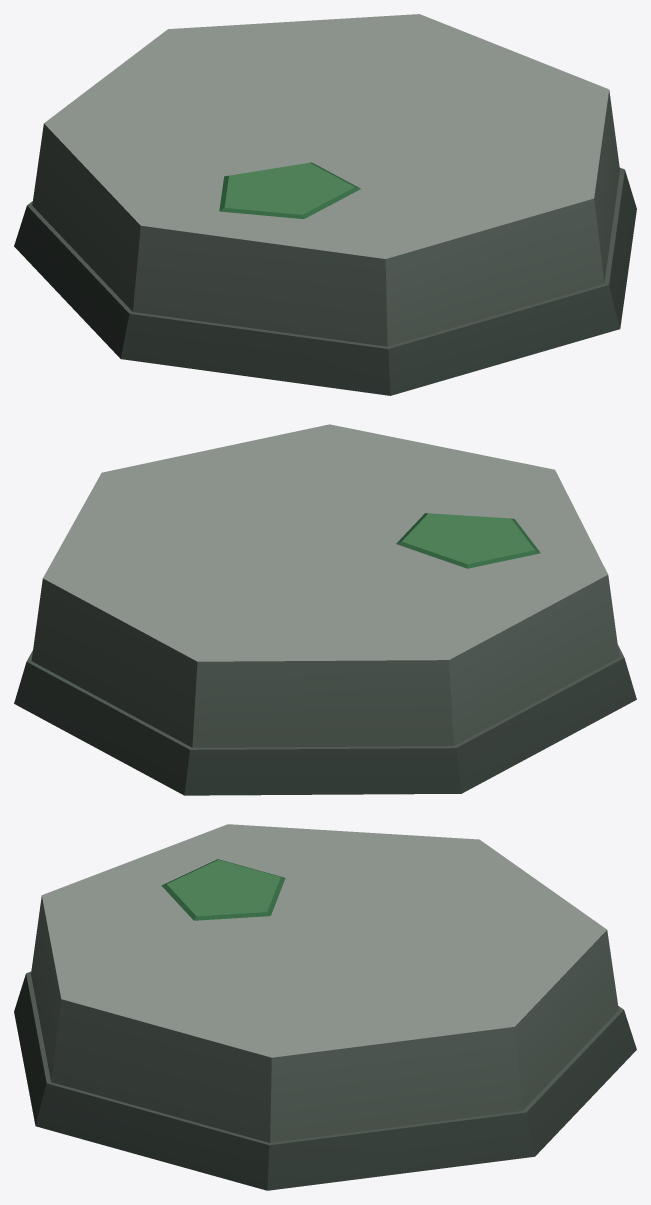
Rendered from custom-pedra-rio-3.glb.
3 views of the same model, one above another, from view 1: azimuth 30°, elevation 25°; view 2: azimuth 150°, elevation 25°; view 3: azimuth 270°, elevation 25° (orthographic). The views are drawn at different scales.
Visible parts, largest first — view 1: pedra-rio-3; view 2: pedra-rio-3; view 3: pedra-rio-3.
Boxes of the visible parts, x1,y1,x2,y2 form: pedra-rio-3: (14, 14, 636, 395); pedra-rio-3: (14, 424, 636, 795); pedra-rio-3: (14, 824, 636, 1190).
Size of the model in its own units: 2.74 by 0.6101 by 2.8.
